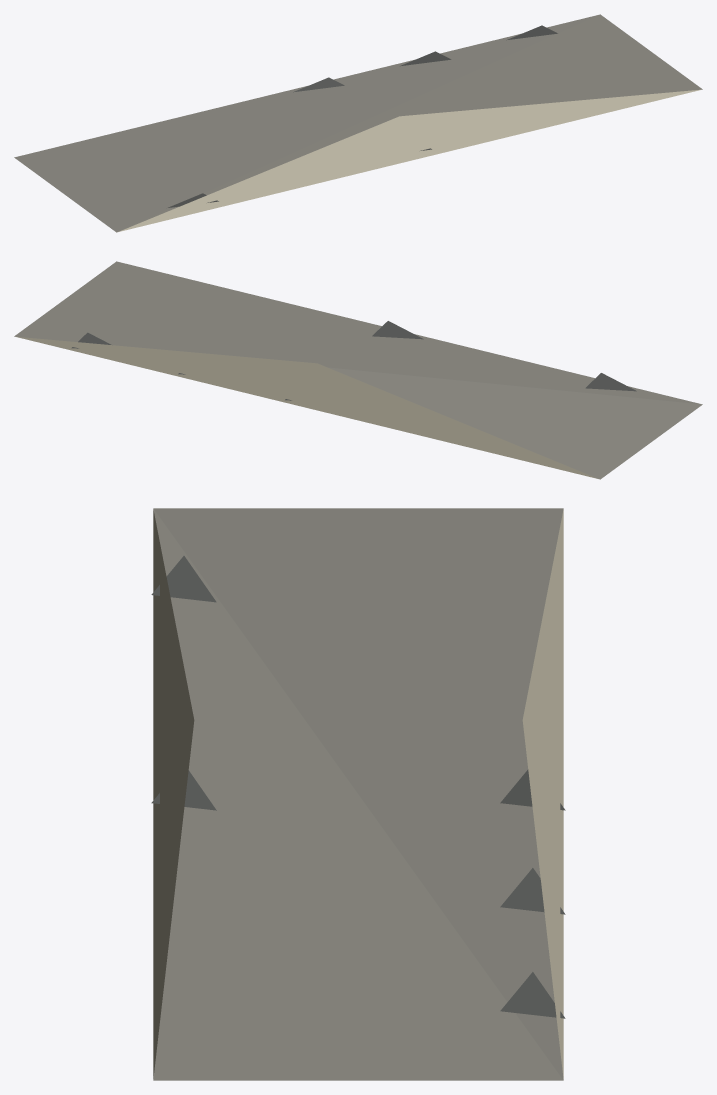
File: bridge_small_stone_lod2.glb
3 renders of one model, top to bottom at view 1: azimuth 30°, elevation 25°; view 2: azimuth 150°, elevation 25°; view 3: azimuth 270°, elevation 25°, orthographic. The views are drawn at different scales.
Parts seen in each view (by area): view 1: bridge_small_stone_lod2; view 2: bridge_small_stone_lod2; view 3: bridge_small_stone_lod2.
Part boxes in pixels (box(x1,y1,x2,y2)): bridge_small_stone_lod2: box(14, 14, 702, 232); bridge_small_stone_lod2: box(14, 261, 702, 479); bridge_small_stone_lod2: box(151, 508, 565, 1080).
Bounding box in the file's own units: 6.6 × 0.6753 × 2.02.
